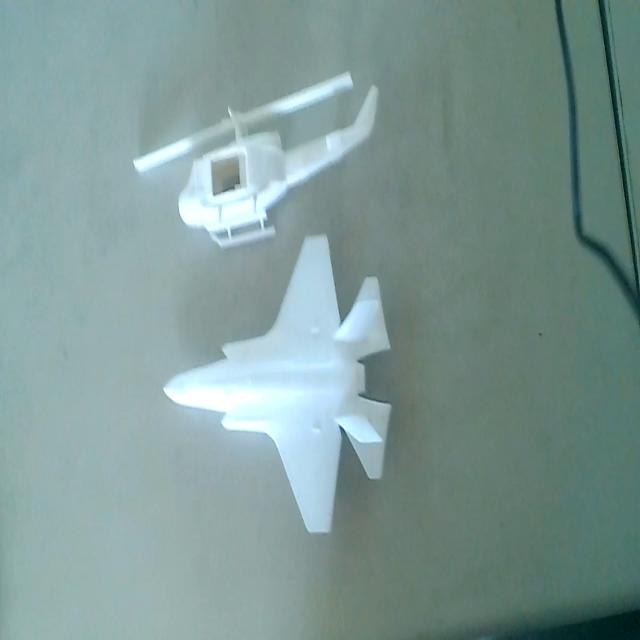Helicopter: (134, 69, 386, 244)
Jet: (163, 235, 395, 539)
